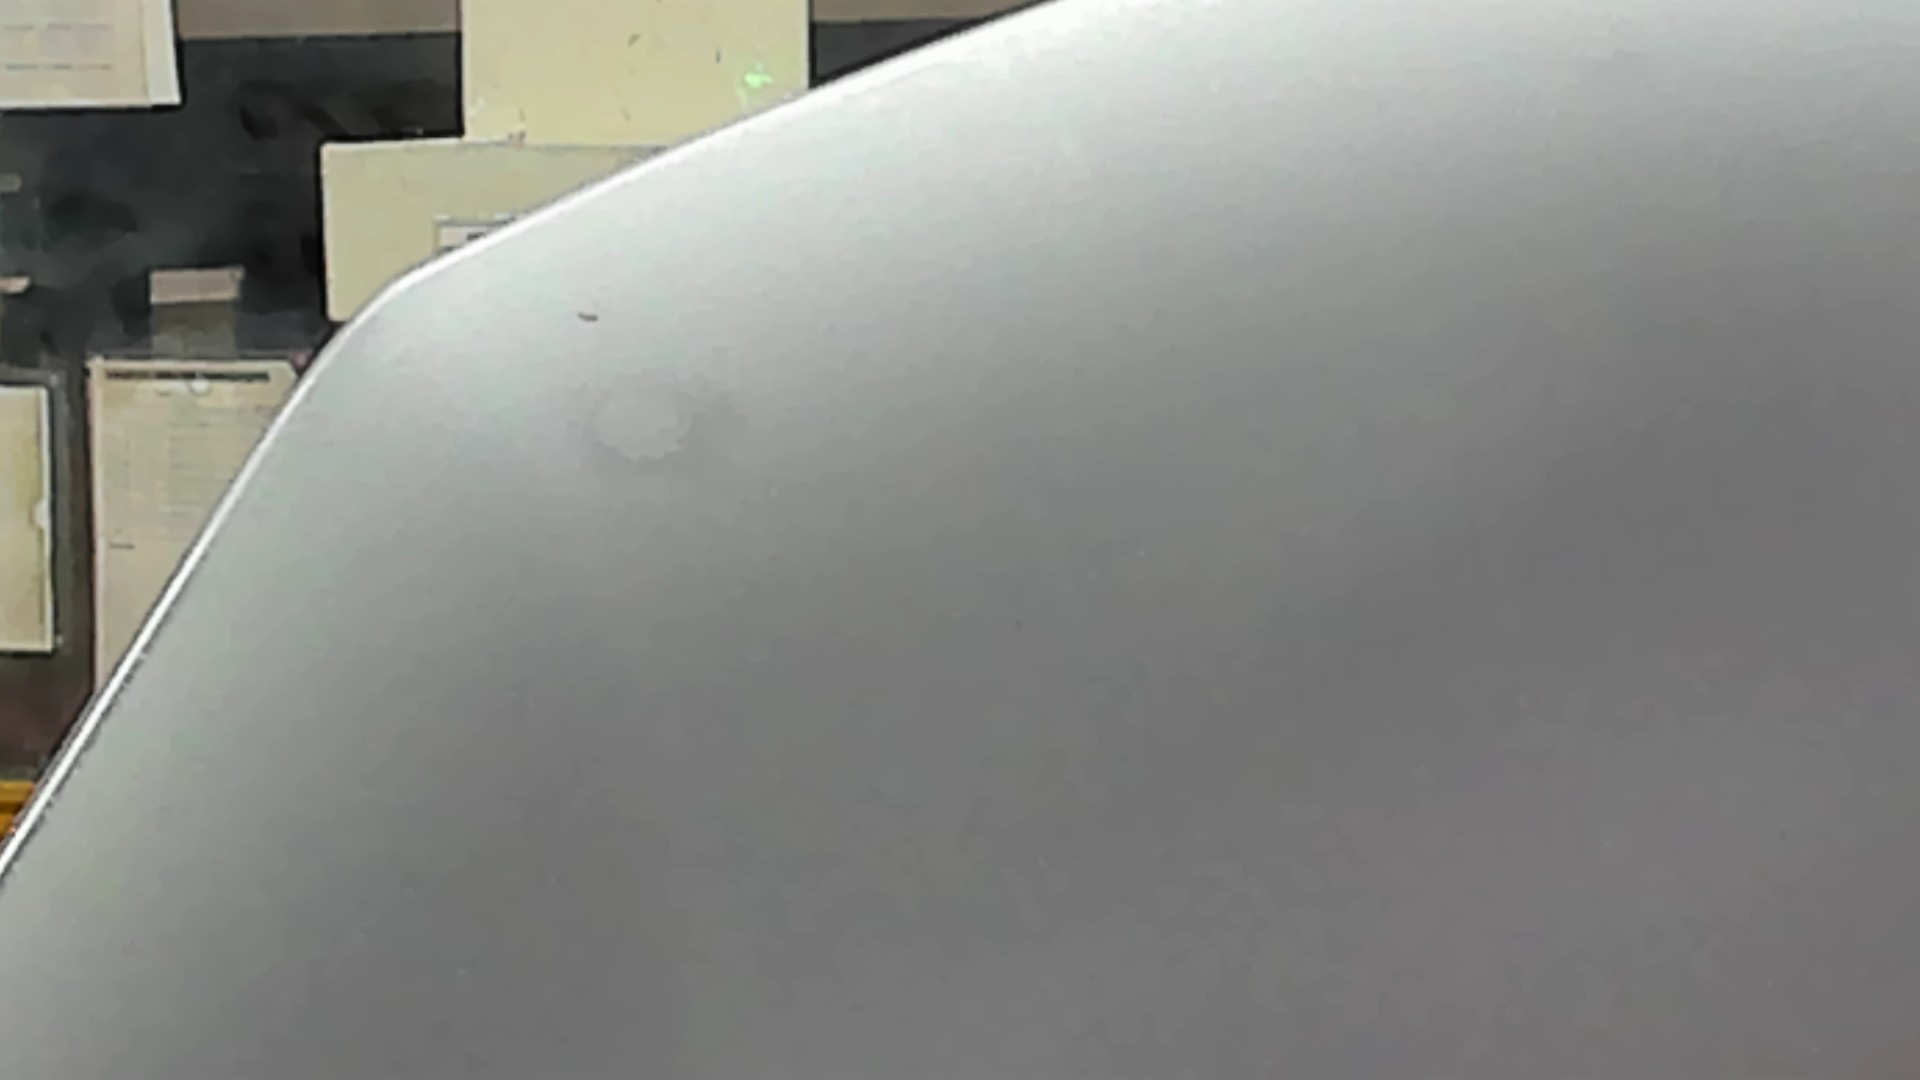capo: (615, 216, 1920, 1080)
